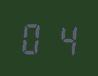four: (48, 19, 76, 56)
zero: (19, 18, 47, 55)
